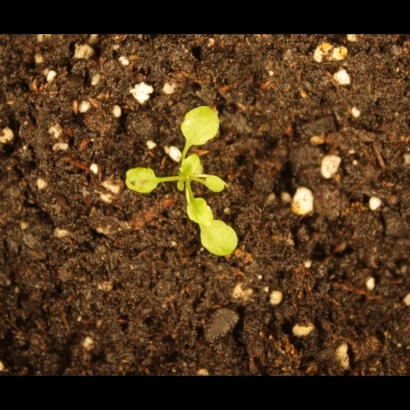leaf: (189, 220, 246, 262), (179, 101, 222, 146), (123, 161, 165, 199), (177, 194, 221, 230), (171, 152, 203, 178), (202, 172, 228, 198)
